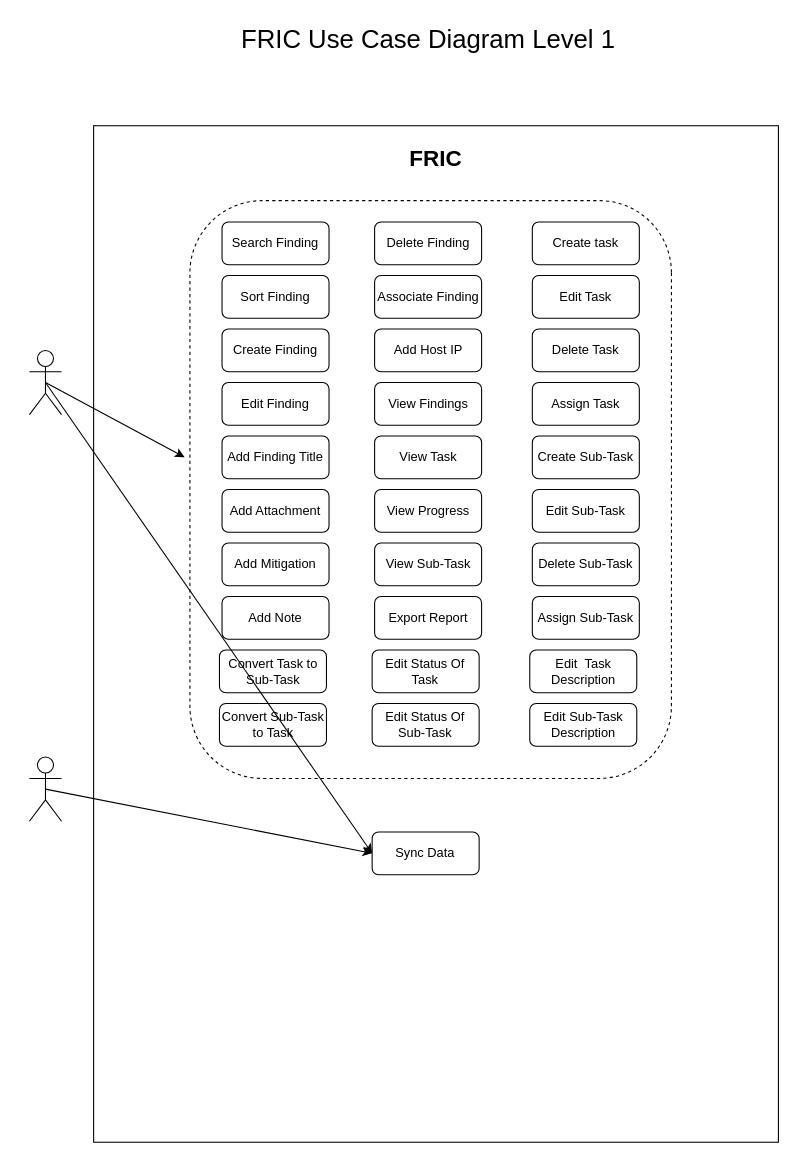
This 797x1161 diagram has some shape labels left out. The centre of each missing label's shape, as x and y in pixels:
"Analyst" goes at (45,382).
"Database" goes at (45,788).
